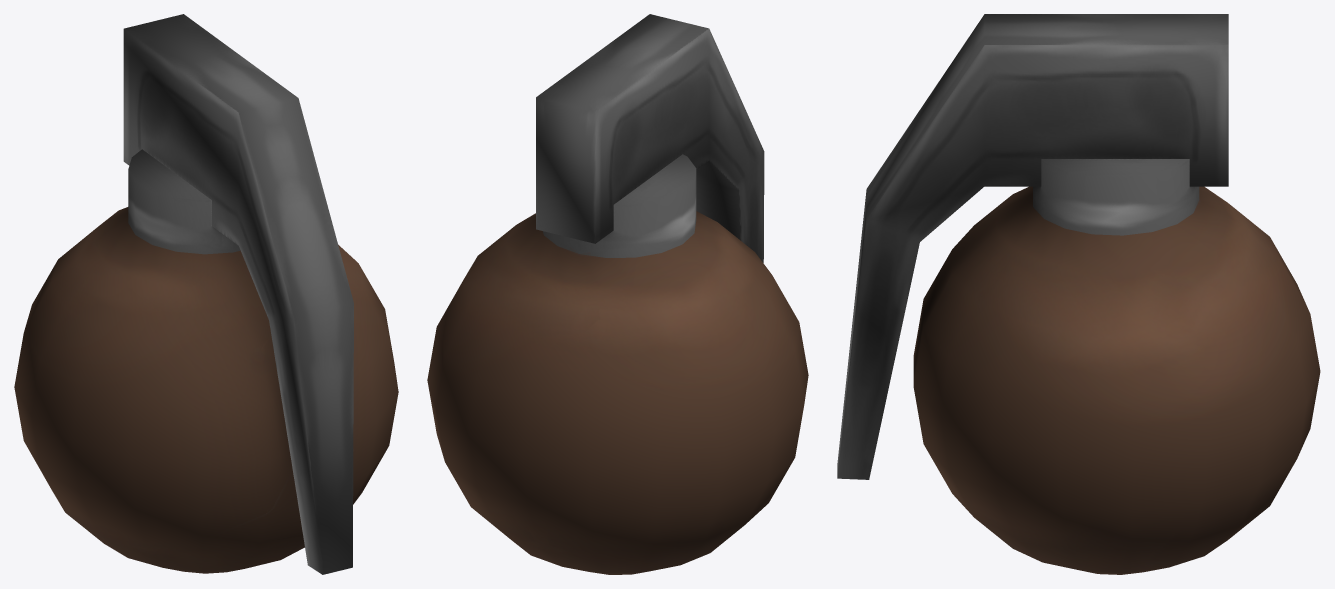
Rendered from grenade.fbx.
3 renders of one model, left to right at view 1: azimuth 30°, elevation 25°; view 2: azimuth 150°, elevation 25°; view 3: azimuth 270°, elevation 25°, orthographic. The views are drawn at different scales.
Parts seen in each view (by area): view 1: Cube; view 2: Cube; view 3: Cube.
Part boxes in pixels (left/top/right/bottom): Cube: left=14, top=14, right=398, bottom=574; Cube: left=427, top=14, right=808, bottom=574; Cube: left=837, top=14, right=1320, bottom=574.
Size of the model in its own units: 199 by 284 by 235.
1 material, 1 textured.
